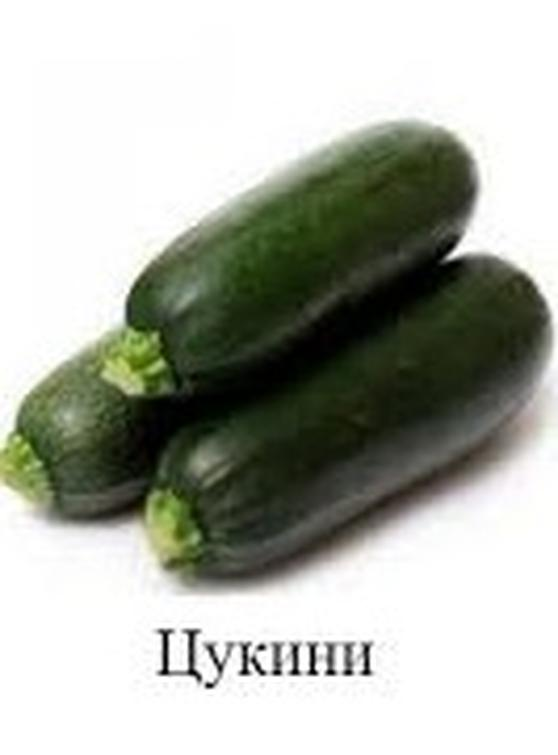zucchini: (118, 92, 493, 417)
